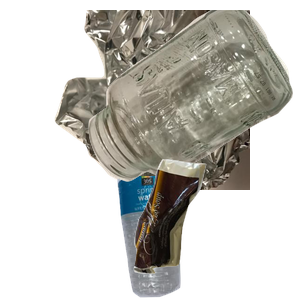glass: (86, 10, 300, 184)
metal: (52, 10, 292, 190)
plastic: (115, 176, 288, 300)
trash: (131, 157, 300, 300)
